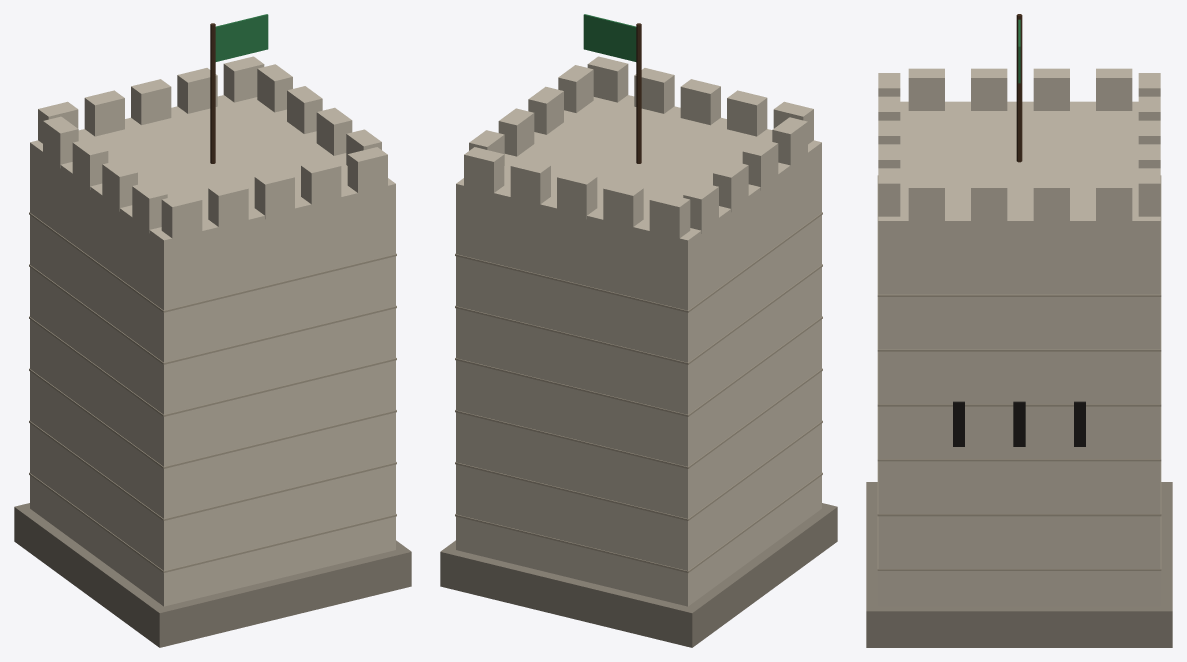
The model's file is tower.glb.
3 views of the same model, side by side, from view 1: azimuth 30°, elevation 25°; view 2: azimuth 150°, elevation 25°; view 3: azimuth 270°, elevation 25° (orthographic). The views are drawn at different scales.
Visible parts, largest first — view 1: Tower; view 2: Tower; view 3: Tower.
Boxes of the visible parts, <box> form: Tower: <box>14,14,411,647</box>; Tower: <box>440,14,837,647</box>; Tower: <box>866,14,1172,647</box>.
Size of the model in its own units: 7.6 by 15.55 by 7.6.
